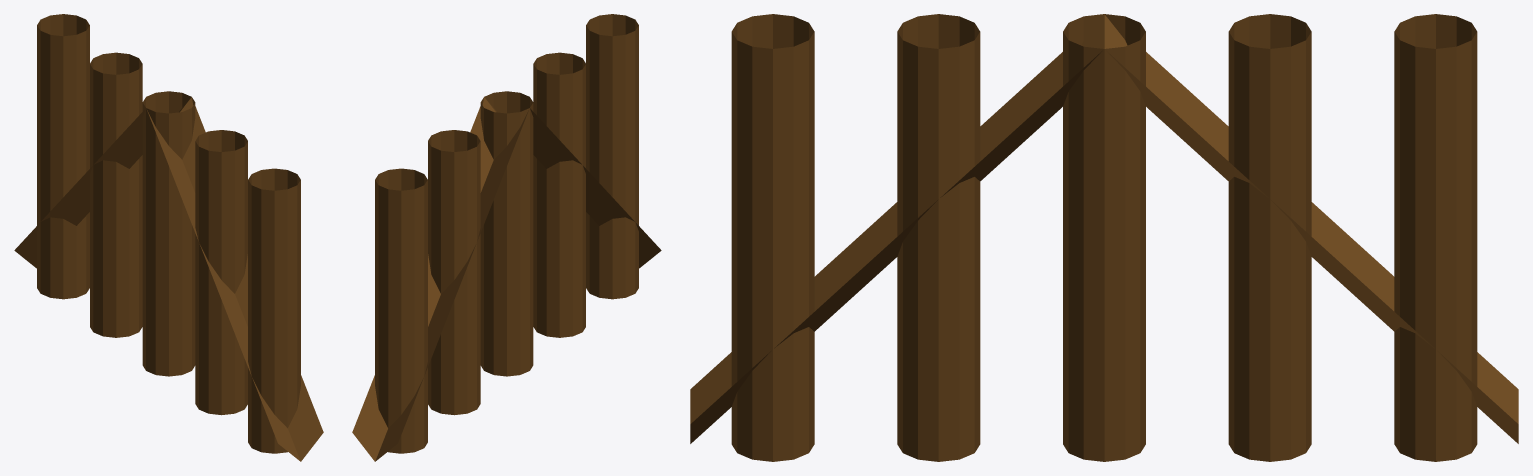
File: Dragonfly_Shrine_Metal.fbx
3 renders of one model, left to right at view 1: azimuth 30°, elevation 25°; view 2: azimuth 150°, elevation 25°; view 3: azimuth 270°, elevation 25°, orthographic. The views are drawn at different scales.
Visible parts, largest first — view 1: Metal; view 2: Metal; view 3: Metal.
Boxes of the visible parts, x1=… form: Metal: x1=14, y1=14, x2=323, y2=461; Metal: x1=352, y1=14, x2=661, y2=461; Metal: x1=690, y1=14, x2=1518, y2=461.
Bounding box in the file's own units: 0.4 × 2.2 × 4.
